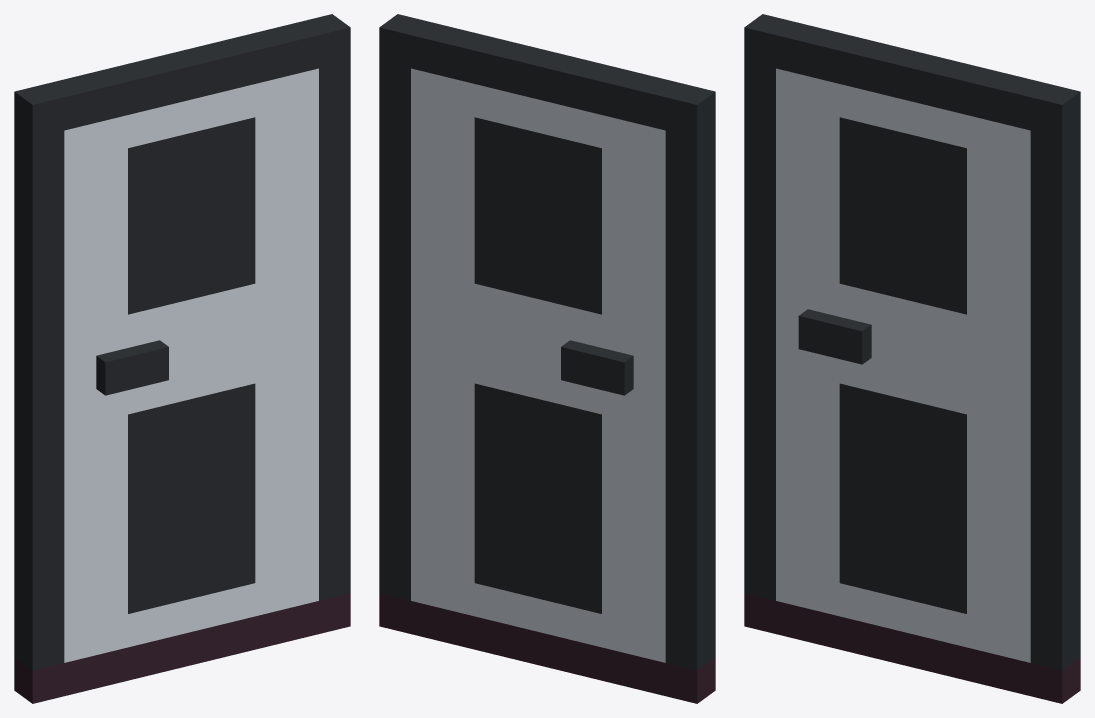
File: Door (10x14x2).fbx
3 renders of one model, left to right at view 1: azimuth 30°, elevation 25°; view 2: azimuth 150°, elevation 25°; view 3: azimuth 330°, elevation 25°, orthographic.
Visible parts, largest first — view 1: generated; view 2: generated; view 3: generated.
Boxes of the visible parts, x1,y1,x2,y2 form: generated: (14, 14, 350, 703); generated: (379, 14, 715, 703); generated: (744, 14, 1080, 703).
Size of the model in its own units: 400 by 720 by 80.
